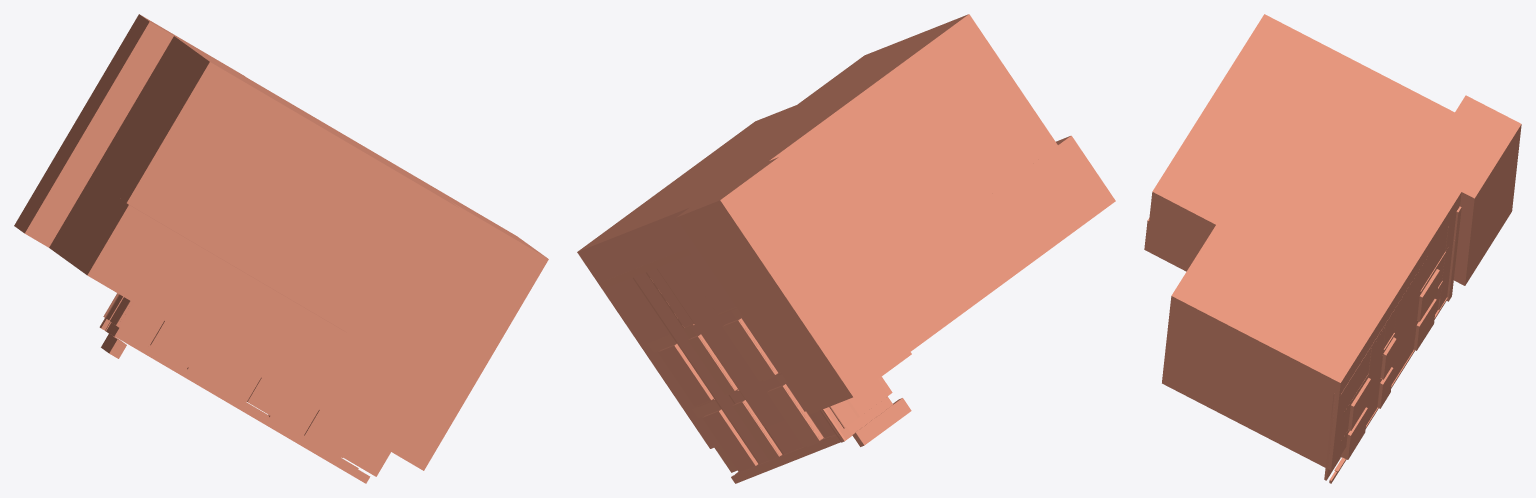
The picture shows the model from 3 angles, left to right: view 1: azimuth 30°, elevation 25°; view 2: azimuth 150°, elevation 25°; view 3: azimuth 270°, elevation 25°; orthographic projection. The views are drawn at different scales.
Visible parts, largest first — view 1: mesh; view 2: mesh; view 3: mesh.
Boxes of the visible parts, x1=… form: mesh: x1=14, y1=14, x2=548, y2=483; mesh: x1=577, y1=14, x2=1115, y2=483; mesh: x1=1144, y1=14, x2=1521, y2=483.
Size of the model in its own units: 20.79 by 20.23 by 17.57.
